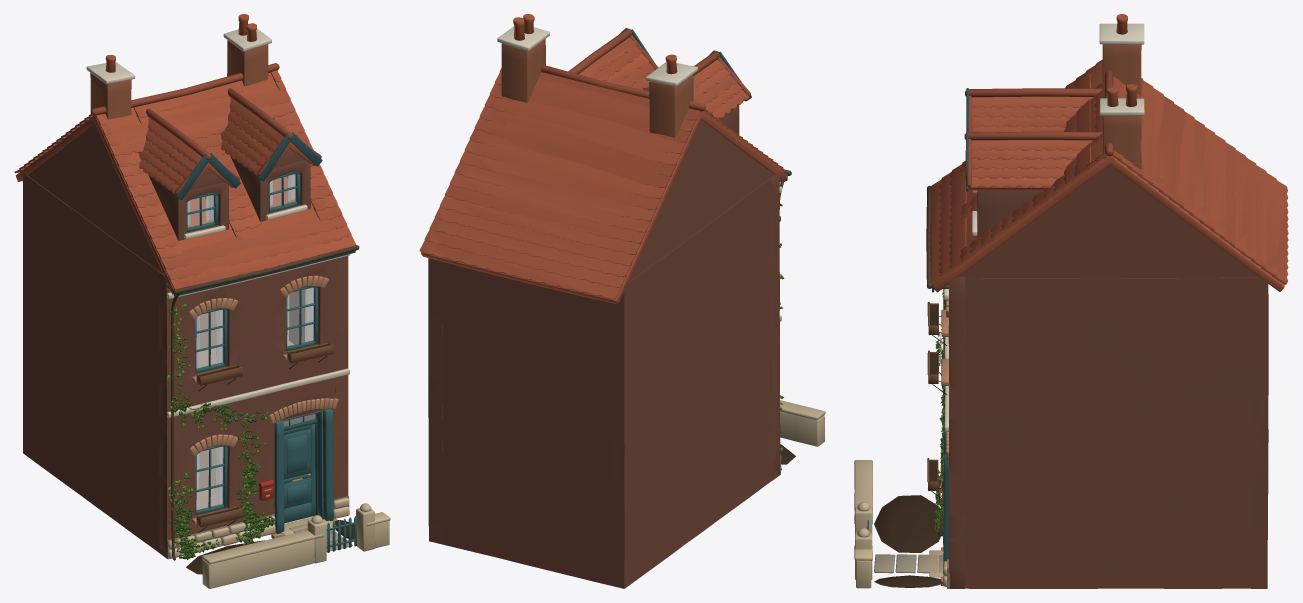
Rendered from Opposite_Opposite2_3.glb.
The picture shows the model from 3 angles, left to right: view 1: azimuth 30°, elevation 25°; view 2: azimuth 150°, elevation 25°; view 3: azimuth 270°, elevation 25°; orthographic projection. The views are drawn at different scales.
Visible parts, largest first — view 1: Sammel Ziegel, Sammel Stein, Sammel Lack, Sammel Putz, Glas, Sammel Pflanze, Sammel Putz innen, Vorhang Leinen, Sammel Metall, Sammel Holz; view 2: Sammel Ziegel, Sammel Stein, Sammel Putz; view 3: Sammel Ziegel, Sammel Stein, Sammel Putz, Sammel Lack, Sammel Pflanze, Sammel Holz, Sammel Metall.
Part boxes in pixels (box(x1,y1,x2,y2)): Sammel Ziegel: box(23, 40, 348, 558); Sammel Stein: box(14, 63, 390, 588); Sammel Lack: box(167, 132, 356, 552); Sammel Putz: box(86, 14, 354, 574); Glas: box(188, 174, 315, 510); Sammel Pflanze: box(166, 303, 274, 559); Sammel Putz innen: box(198, 289, 315, 523); Vorhang Leinen: box(187, 174, 313, 509); Sammel Metall: box(171, 245, 359, 560); Sammel Holz: box(196, 342, 333, 527); Sammel Ziegel: box(428, 39, 780, 588); Sammel Stein: box(419, 28, 825, 470); Sammel Putz: box(497, 14, 795, 474); Sammel Ziegel: box(948, 44, 1268, 588); Sammel Stein: box(854, 59, 1288, 588); Sammel Putz: box(874, 14, 1144, 588); Sammel Lack: box(867, 88, 968, 562); Sammel Pflanze: box(934, 291, 944, 533); Sammel Holz: box(927, 302, 938, 490); Sammel Metall: box(926, 185, 947, 500).
Size of the model in its own units: 4.64 by 10.63 by 8.44.
